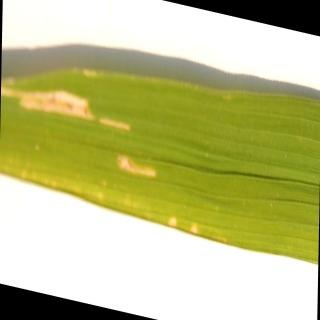Hawar-Daun: (1, 81, 96, 122), (118, 153, 157, 180), (100, 113, 130, 136), (82, 67, 98, 85), (168, 213, 178, 226), (190, 223, 199, 232)
